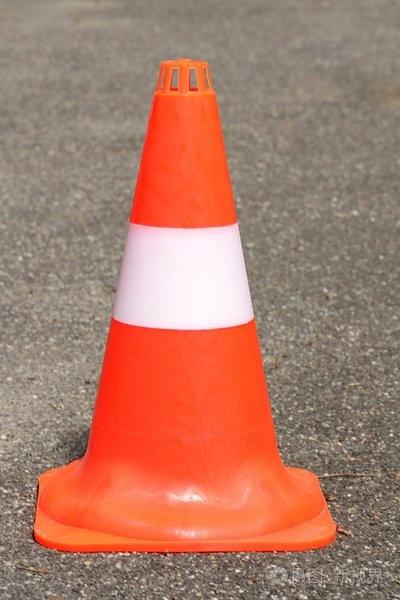cone_barrel: (53, 57, 312, 542)
